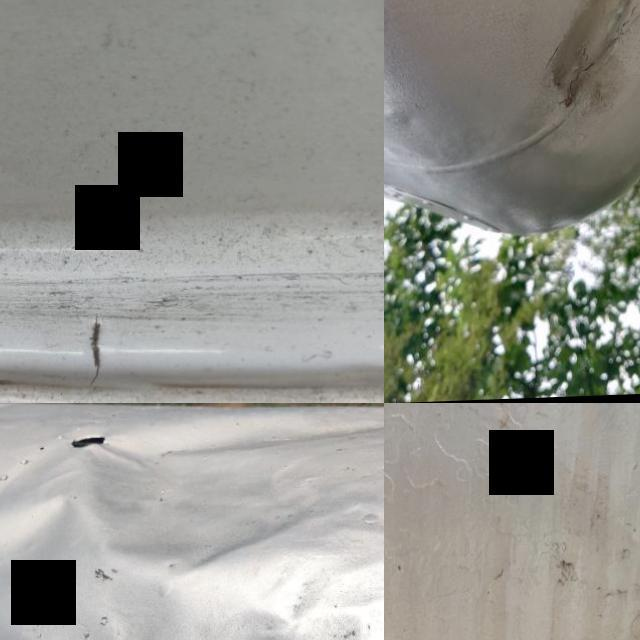Crack: (0, 235, 145, 403)
Dent: (62, 436, 370, 608), (488, 0, 640, 129), (0, 471, 93, 636), (164, 570, 383, 640)
